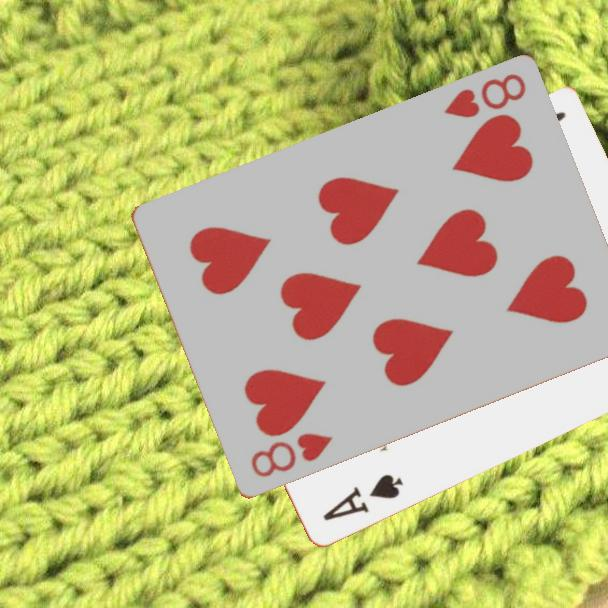h08: (440, 70, 529, 122), (247, 430, 335, 481)
s01: (319, 470, 406, 524)
